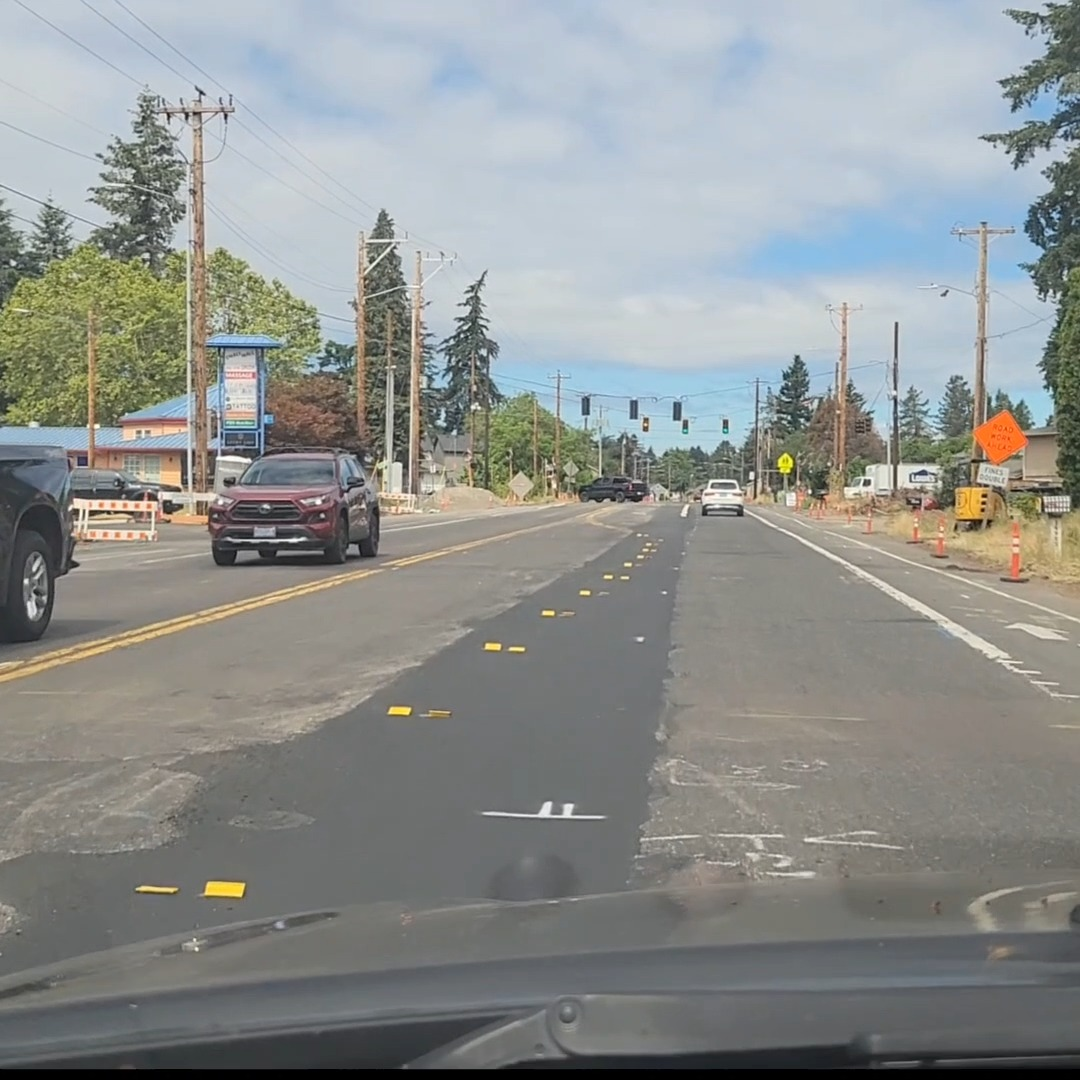car: (207, 445, 379, 565), (0, 442, 79, 637), (65, 467, 179, 521), (578, 474, 647, 502), (699, 478, 746, 516)
crosswalk-sign: (777, 453, 793, 473)
delineator: (1000, 522, 1029, 582), (930, 517, 950, 558), (907, 512, 922, 545), (864, 503, 875, 533), (844, 503, 853, 526), (814, 498, 824, 518), (795, 489, 803, 510)
